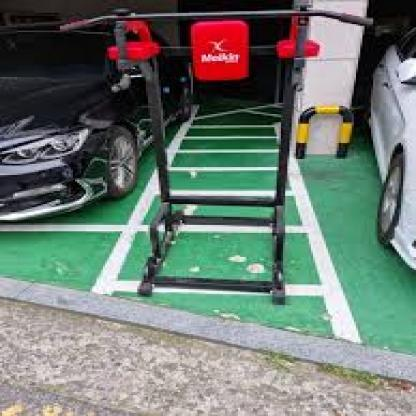chinning dipping: (62, 5, 372, 305)
